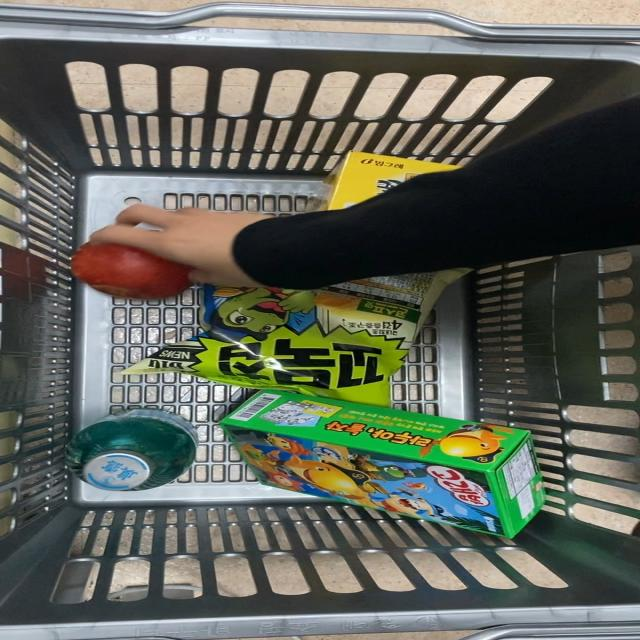ggobukchip: (193, 243, 454, 409)
goraebob: (222, 392, 564, 536)
jinro: (38, 405, 204, 496)
minicrab: (319, 151, 544, 223)
plum: (63, 220, 197, 307)
